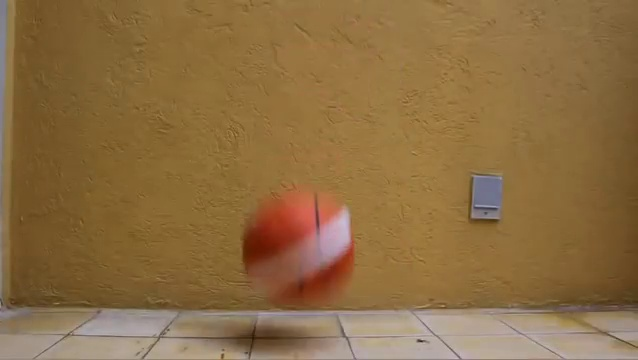ball: (241, 187, 358, 305)
